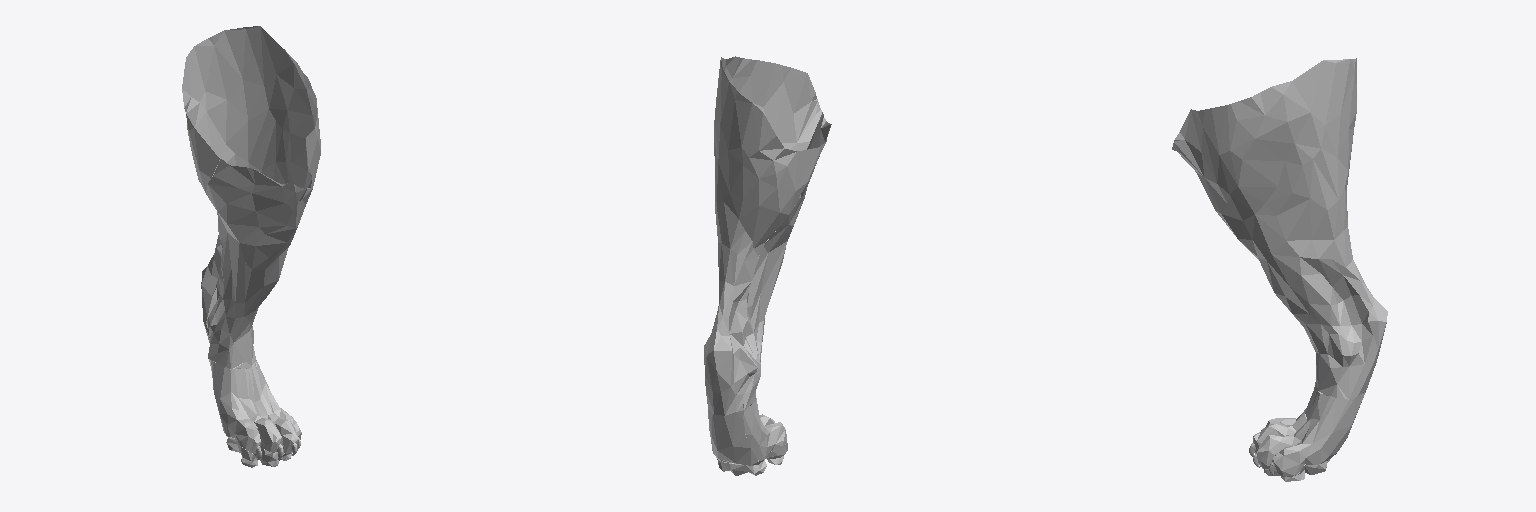
File: lB_leftleg.obj
The picture shows the model from 3 angles: view 1: azimuth 30°, elevation 25°; view 2: azimuth 150°, elevation 25°; view 3: azimuth 270°, elevation 25°; orthographic projection.
Visible parts, largest first — view 1: Lioness_Body_Lioness_Body_0.009; view 2: Lioness_Body_Lioness_Body_0.009; view 3: Lioness_Body_Lioness_Body_0.009.
Part boxes in pixels (x1,y1,x2,y2): Lioness_Body_Lioness_Body_0.009: (182, 26, 320, 467); Lioness_Body_Lioness_Body_0.009: (704, 56, 831, 475); Lioness_Body_Lioness_Body_0.009: (1172, 58, 1387, 481).
Bounding box in the file's own units: 0.5482 × 2.4 × 1.13.